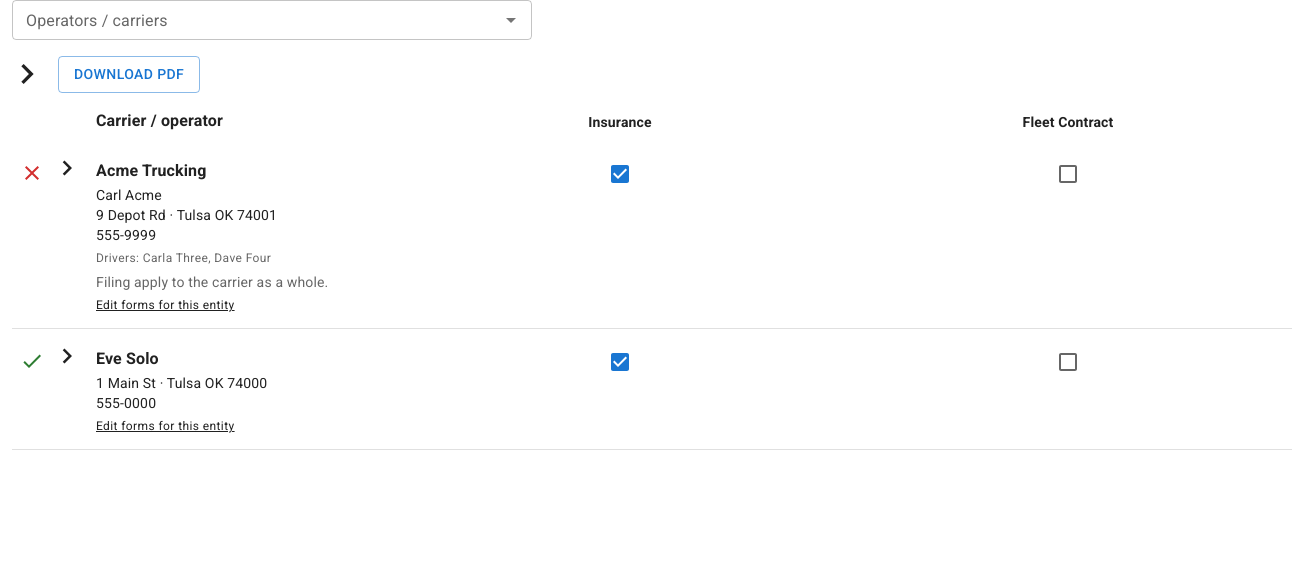
Test: DriverForms (oo mode) › expands an entity to show its trucks and vitals
The width and height of the screenshot is (1292, 579).
Expected: the text "Truck One" is not shown
Click the button without text next to "Acme Trucking" at [67, 168], box [52,152,82,182]
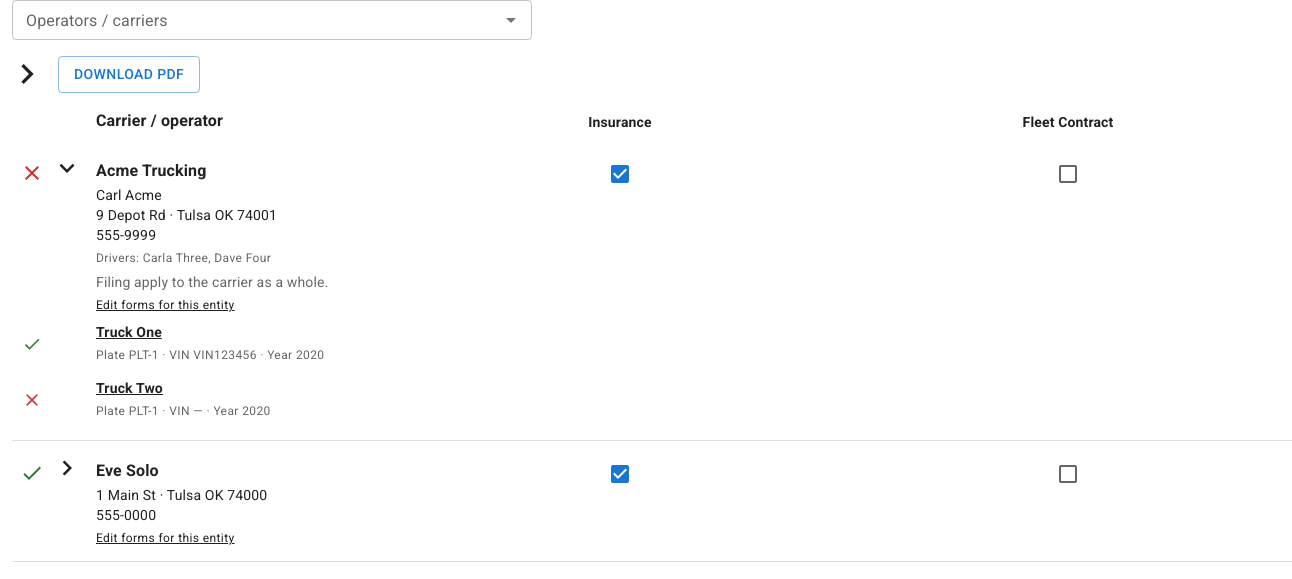
Expected: the link "Truck One" is shown, [96,324,162,340]
Expected: the link "Truck Two" is shown, [96,380,163,396]
